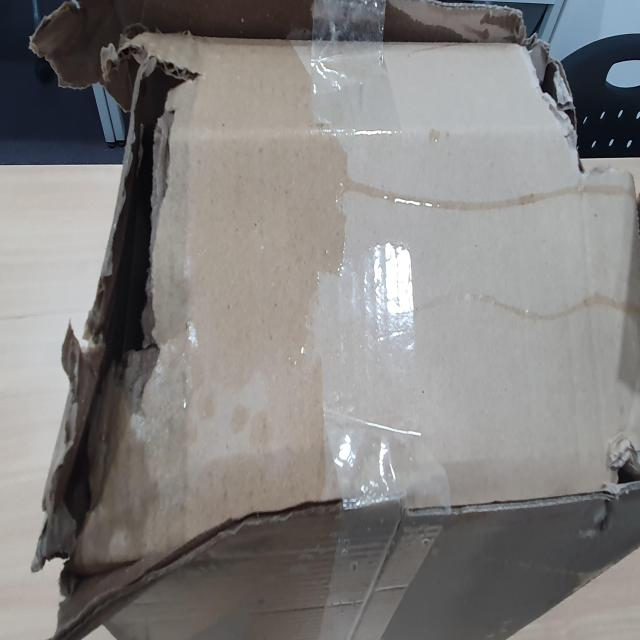damaged: (41, 49, 186, 579)
wet: (31, 7, 640, 640)
